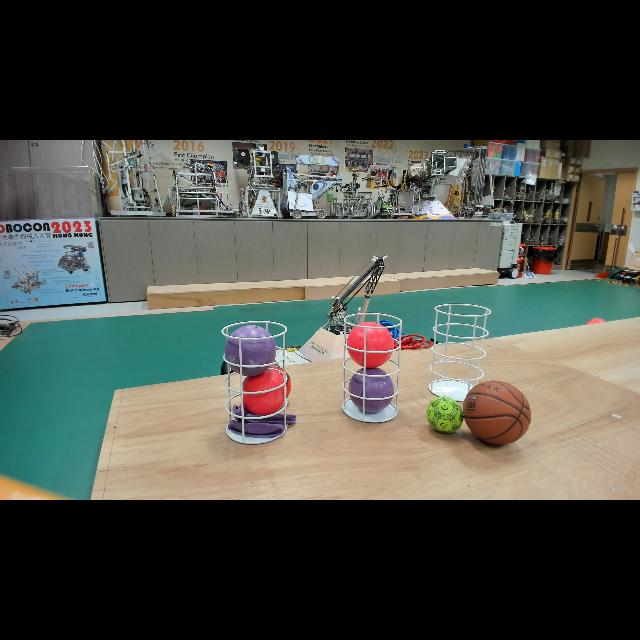P: (222, 324, 278, 378), (346, 366, 396, 416)
R: (239, 367, 289, 418), (346, 319, 396, 369)
S: (220, 320, 290, 446), (342, 312, 402, 424), (428, 302, 492, 403)
